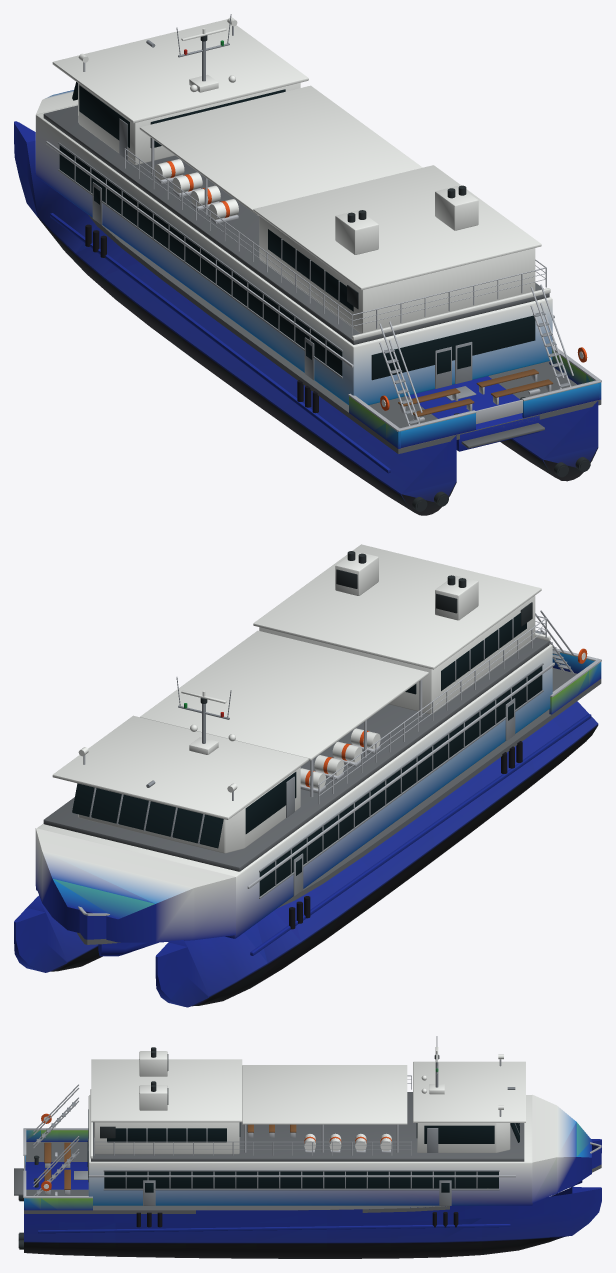
Rendered from SF_Bay_Ferry.glb.
3 renders of one model, top to bottom at view 1: azimuth 30°, elevation 25°; view 2: azimuth 150°, elevation 25°; view 3: azimuth 270°, elevation 25°, orthographic. The views are drawn at different scales.
Parts seen in each view (by area): view 1: sf_bay_ferry; view 2: sf_bay_ferry; view 3: sf_bay_ferry.
Part boxes in pixels (bbox=[...]): sf_bay_ferry: bbox=[14, 14, 601, 515]; sf_bay_ferry: bbox=[14, 544, 601, 1007]; sf_bay_ferry: bbox=[14, 1036, 601, 1258].
Bounding box in the file's own units: 11.94 × 14.7 × 41.7.
